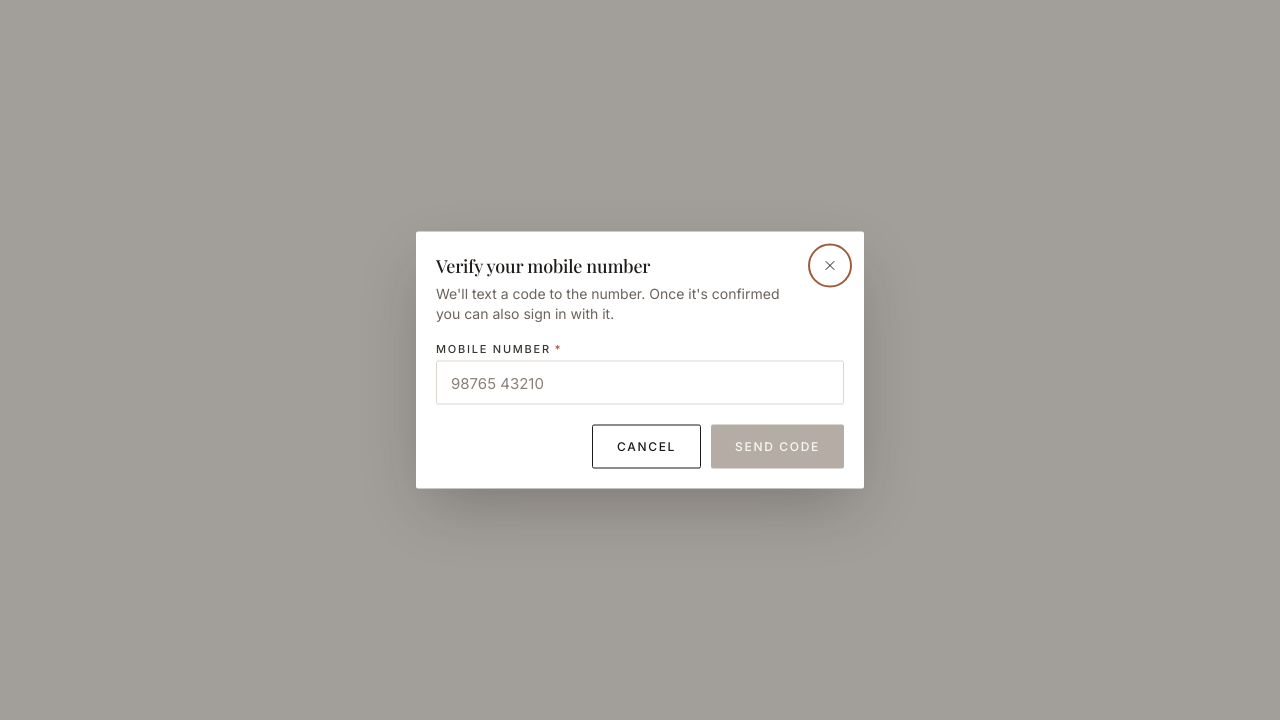
Test case: PhoneVerifyDialog › checks the number before sending anything
The image size is (1280, 720).
Type "12345" into the field labelled "Mobile number*". click: (640, 382)
box: [436, 360, 844, 404]
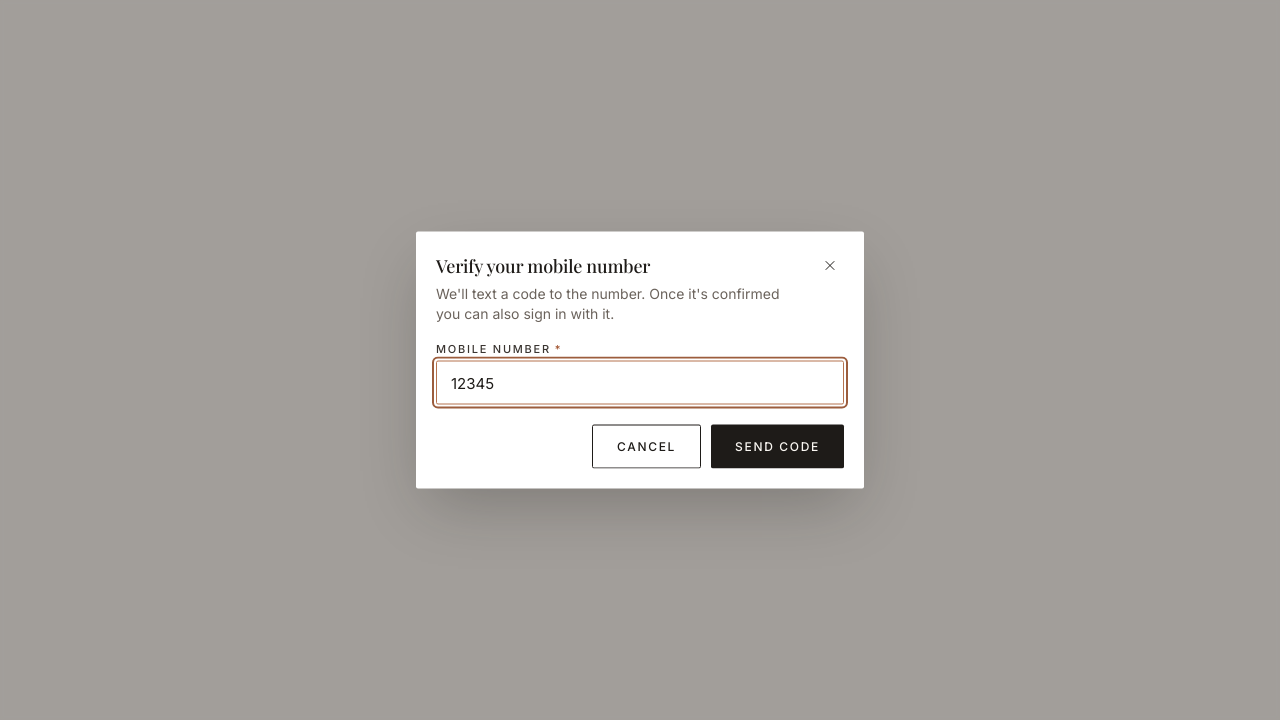
Click the button "Send code". click: (778, 446)
box: [711, 424, 844, 468]
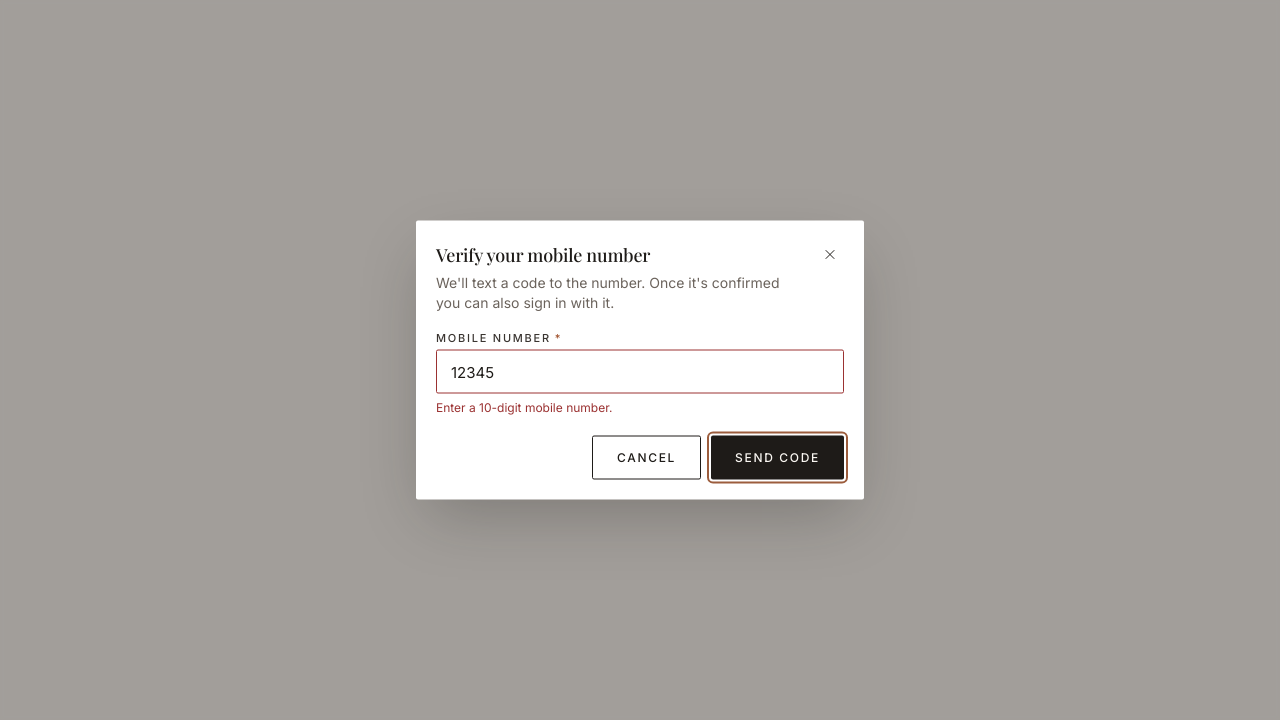
Expected: the message reads "Enter a 10-digit mobile number.", [436, 400, 612, 414]
